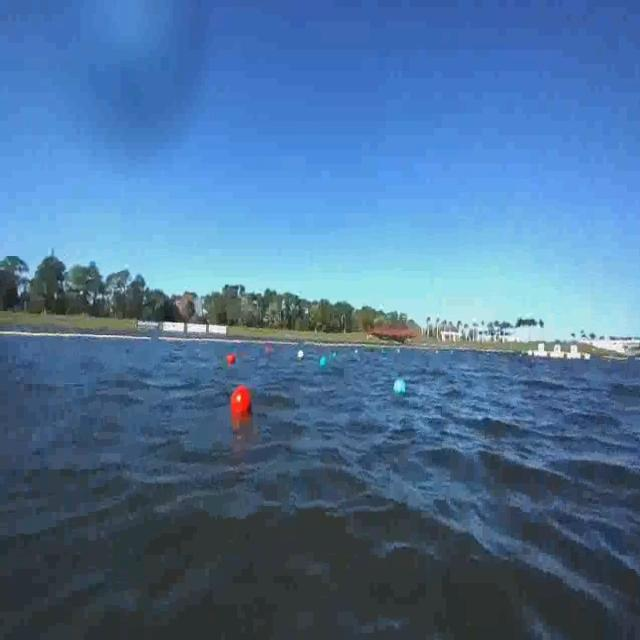green-buoy: (392, 376, 407, 398), (318, 355, 328, 370)
red-buoy: (232, 384, 254, 416), (228, 354, 234, 366)
yellow-buoy: (296, 346, 306, 366)
